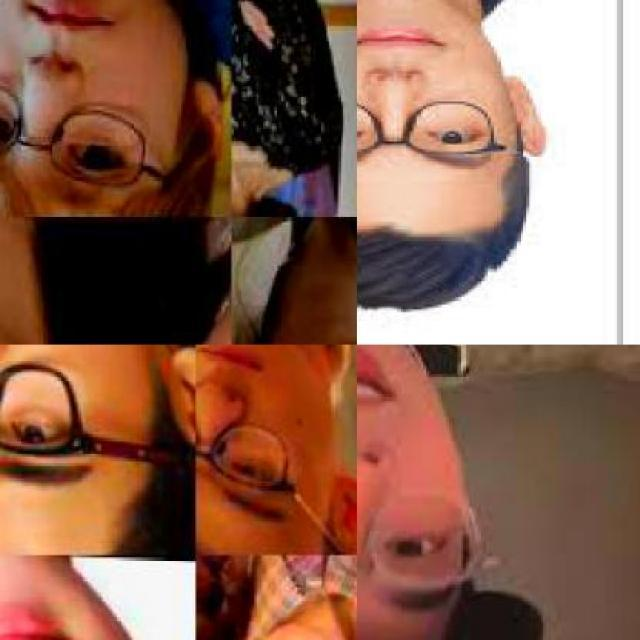glasses: (195, 387, 354, 555), (0, 344, 177, 492), (357, 476, 494, 614), (0, 109, 160, 191), (356, 86, 509, 171)
